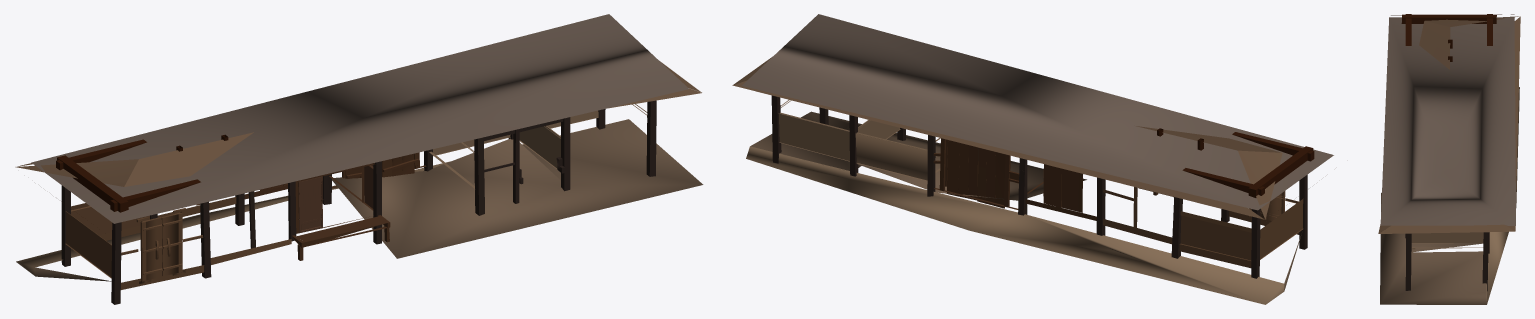
Rendered from chogajip02_far.glb.
3 renders of one model, left to right at view 1: azimuth 30°, elevation 25°; view 2: azimuth 150°, elevation 25°; view 3: azimuth 270°, elevation 25°, orthographic. The views are drawn at different scales.
Visible parts, largest first — view 1: polySurface1_Roof_01_0; view 2: polySurface1_Roof_01_0; view 3: polySurface1_Roof_01_0.
Boxes of the visible parts, <box> form: polySurface1_Roof_01_0: <box>15,14,703,304</box>; polySurface1_Roof_01_0: <box>732,14,1333,304</box>; polySurface1_Roof_01_0: <box>1378,14,1520,304</box>.
Size of the model in its own units: 21.59 by 5.24 by 5.94.
